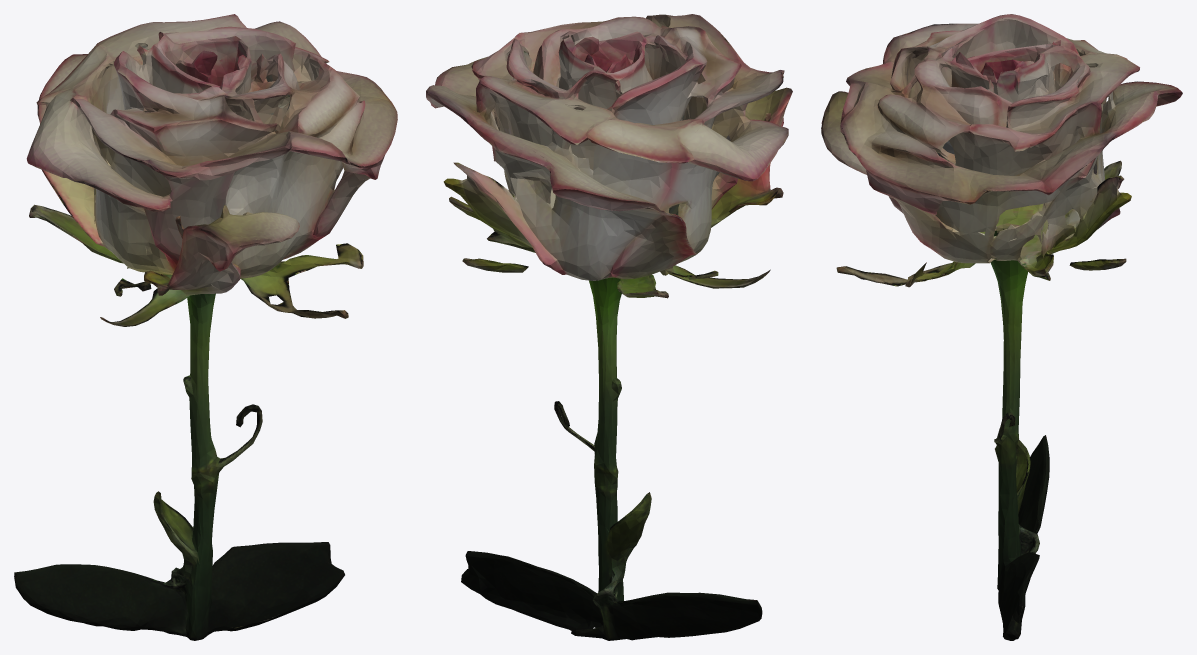
The picture shows the model from 3 angles, left to right: view 1: azimuth 30°, elevation 25°; view 2: azimuth 150°, elevation 25°; view 3: azimuth 270°, elevation 25°; orthographic projection. The views are drawn at different scales.
Visible parts, largest first — view 1: world; view 2: world; view 3: world.
Part boxes in pixels (x1,y1,x2,y2): world: [14, 14, 397, 640]; world: [426, 14, 792, 640]; world: [821, 14, 1182, 640].
Bounding box in the file's own units: 0.5652 × 0.935 × 0.5581.
1 material, 1 textured.
